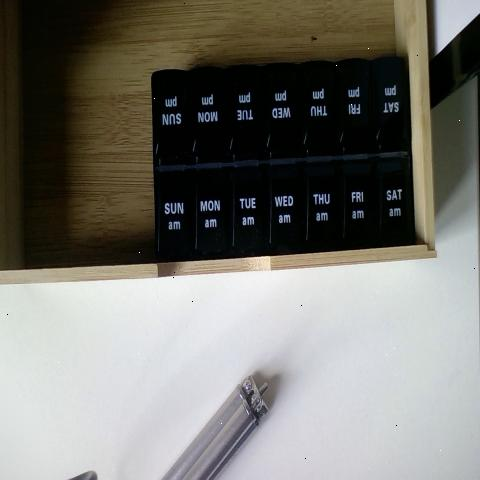FRI-am: (340, 156, 374, 252)
FRI-pm: (338, 62, 373, 157)
MON-am: (196, 170, 231, 261)
MON-pm: (190, 69, 229, 168)
SAT-am: (374, 159, 416, 248)
SAT-pm: (374, 62, 412, 155)
SUN-am: (158, 176, 192, 258)
SUN-pm: (154, 80, 190, 164)
THU-am: (304, 158, 343, 248)
THU-pm: (302, 65, 342, 158)
TUE-am: (230, 169, 267, 253)
TUE-pm: (228, 62, 266, 164)
WED-am: (269, 164, 304, 253)
WED-pm: (265, 60, 301, 159)
